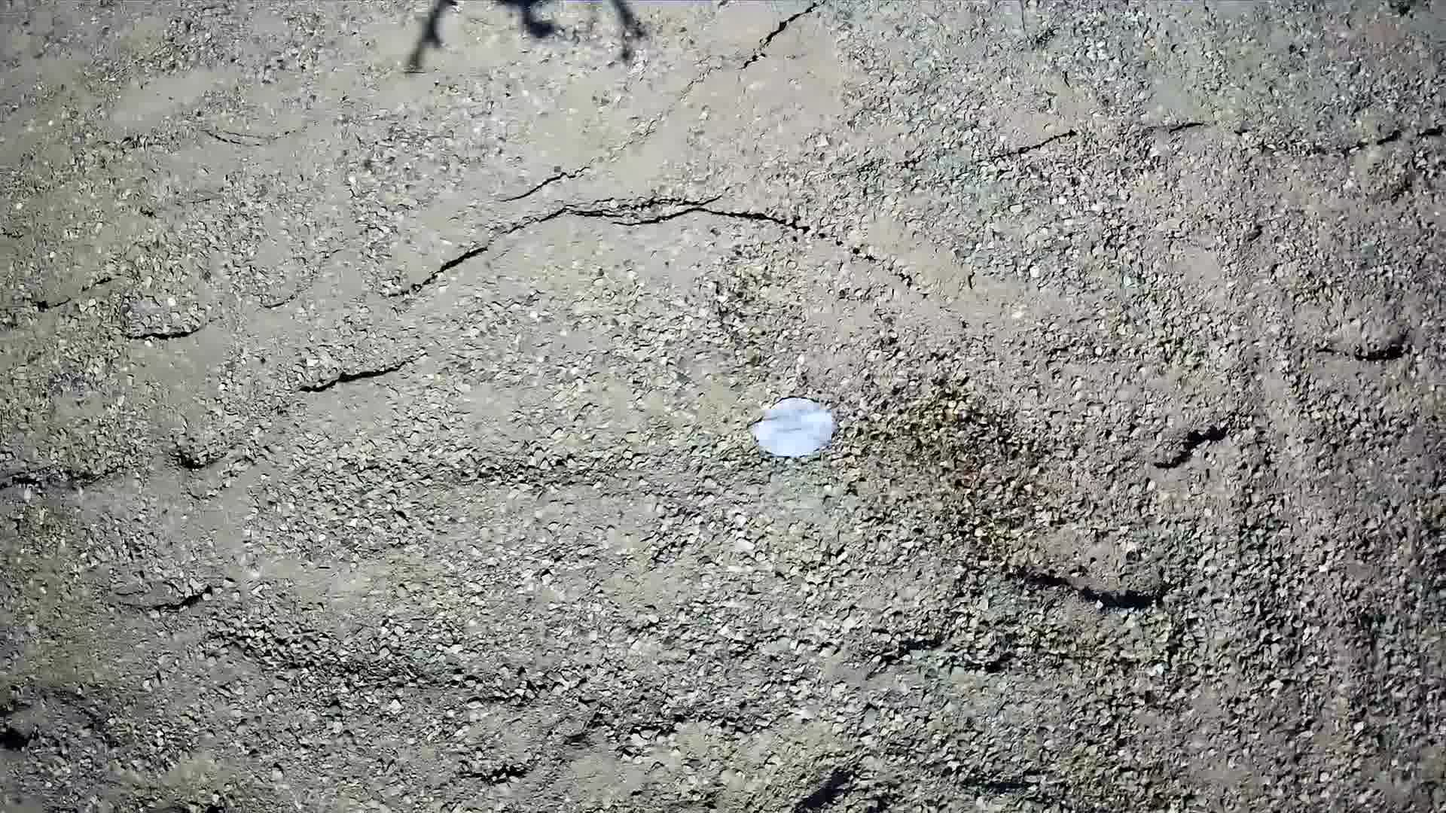Target: (756, 396, 831, 455)
